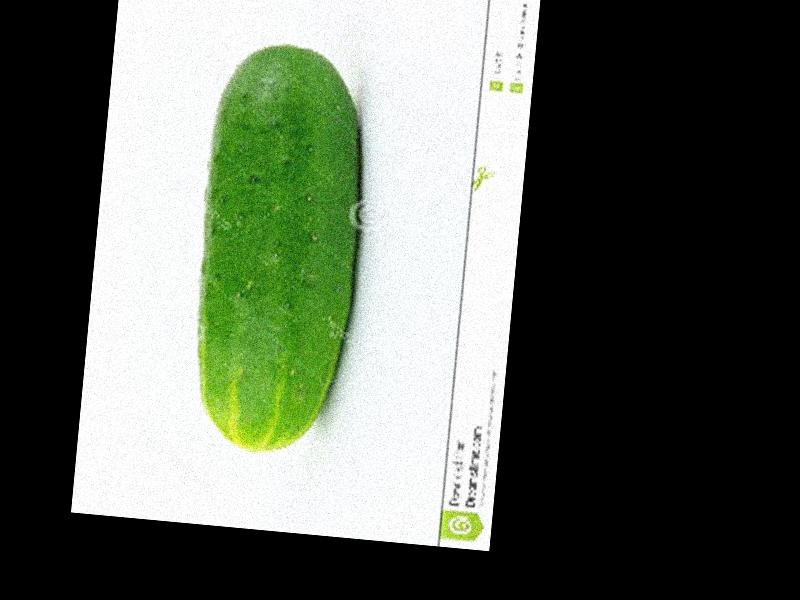Cucumber: (185, 38, 376, 457)
